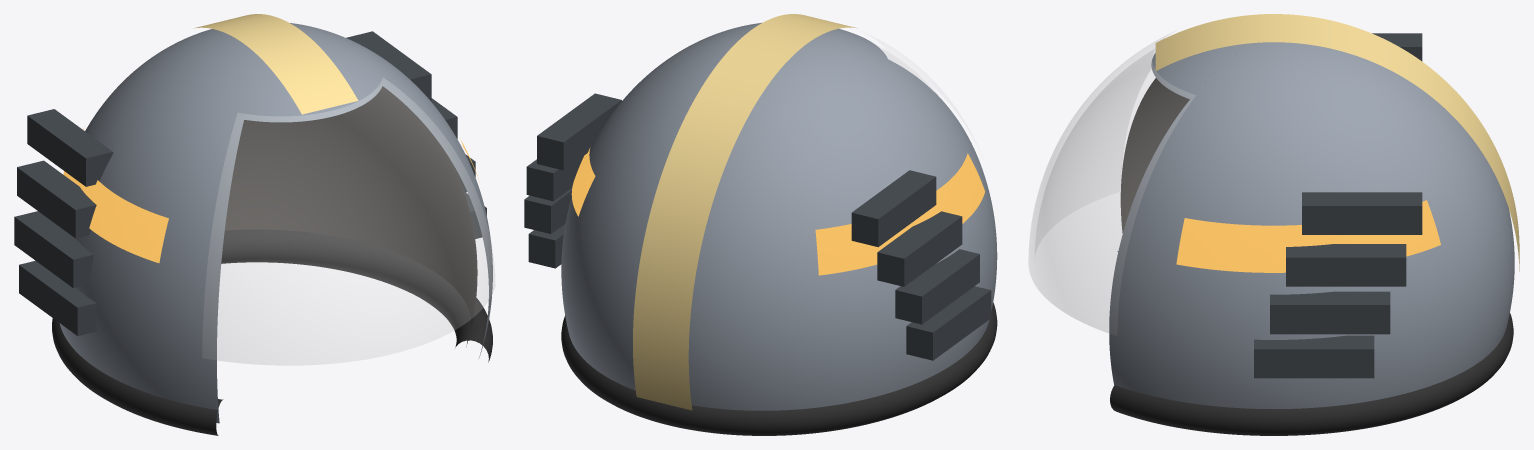
The model's file is raw-hero.gltf.
3 views of the same model, side by side, from view 1: azimuth 30°, elevation 25°; view 2: azimuth 150°, elevation 25°; view 3: azimuth 270°, elevation 25° (orthographic). The views are drawn at different scales.
Visible parts, largest first — view 1: visor, shell, liner, vents, seals, trim, lights; view 2: shell, trim, vents, seals, lights, visor; view 3: shell, visor, vents, seals, trim, lights, liner.
Part boxes in pixels (x1=…): visor: x1=202, y1=78, x2=495, y2=365; shell: x1=59, y1=23, x2=492, y2=423; liner: x1=224, y1=86, x2=477, y2=346; vents: x1=14, y1=31, x2=486, y2=335; seals: x1=52, y1=229, x2=492, y2=435; trim: x1=194, y1=14, x2=358, y2=114; lights: x1=63, y1=128, x2=479, y2=262; shell: x1=561, y1=22, x2=997, y2=410; trim: x1=633, y1=14, x2=857, y2=410; vents: x1=524, y1=93, x2=991, y2=360; seals: x1=561, y1=302, x2=997, y2=435; lights: x1=571, y1=147, x2=984, y2=275; visor: x1=867, y1=34, x2=976, y2=143; shell: x1=1109, y1=42, x2=1514, y2=408; visor: x1=1028, y1=32, x2=1195, y2=335; vents: x1=1254, y1=33, x2=1422, y2=378; seals: x1=1110, y1=251, x2=1513, y2=435; trim: x1=1155, y1=14, x2=1519, y2=271; lights: x1=1176, y1=200, x2=1440, y2=272; liner: x1=1120, y1=78, x2=1189, y2=233.
Bounding box in the file's own units: 0.362 × 0.2645 × 0.3672.
